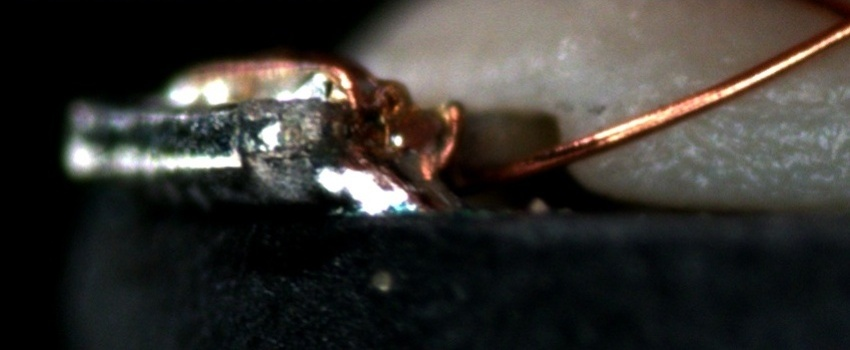CL: (811, 0, 850, 45)
DL: (695, 79, 849, 143)
TE: (175, 44, 470, 188)
